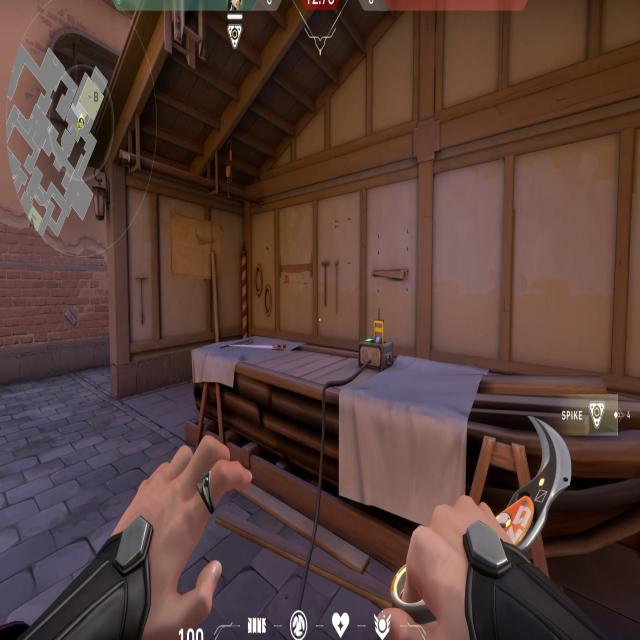B_Garage_Left: (126, 139, 346, 443)
